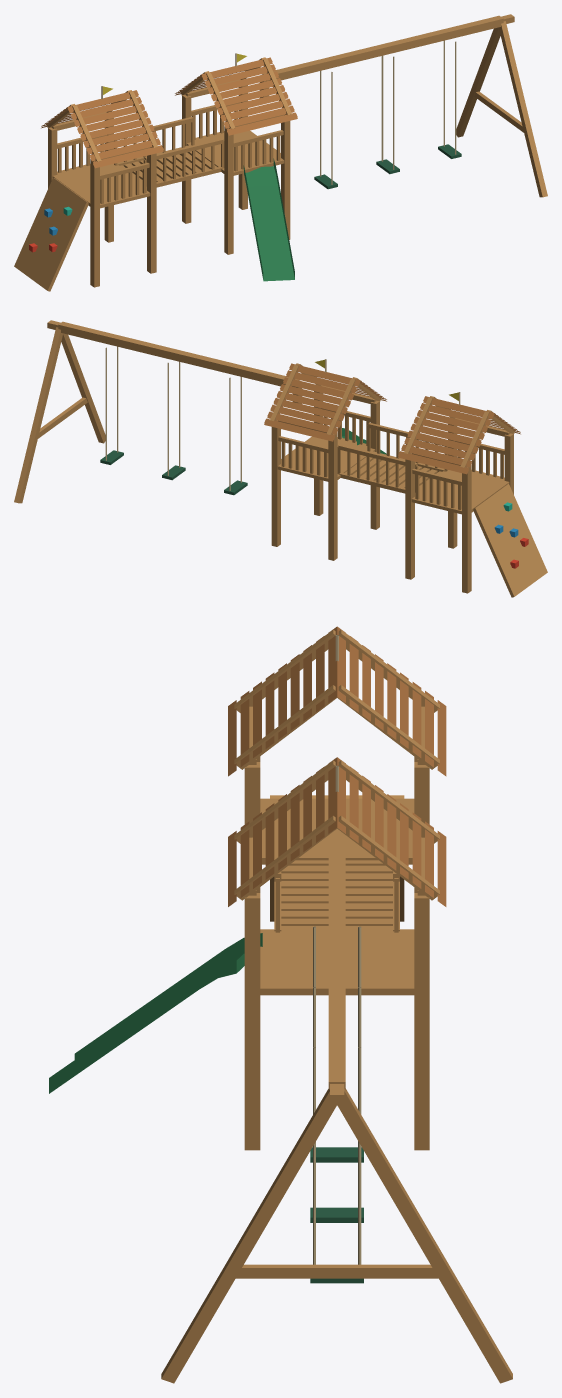
The picture shows the model from 3 angles, top to bottom: view 1: azimuth 30°, elevation 25°; view 2: azimuth 150°, elevation 25°; view 3: azimuth 270°, elevation 25°; orthographic projection. The views are drawn at different scales.
Visible parts, largest first — view 1: SW-E104; view 2: SW-E104; view 3: SW-E104.
Part boxes in pixels (left/top/right/bottom): SW-E104: left=14, top=14, right=547, bottom=291; SW-E104: left=14, top=320, right=547, bottom=597; SW-E104: left=49, top=626, right=512, bottom=1383.
Bounding box in the file's own units: 9.35 × 3.3 × 3.9.
